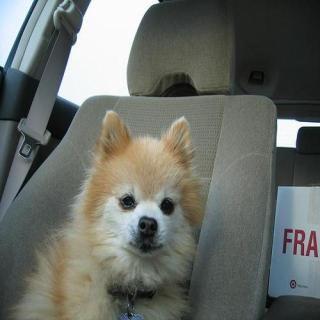dog: (82, 111, 206, 264)
nose: (137, 214, 158, 246)
